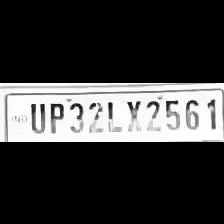1: (201, 94, 219, 130)
2: (86, 97, 106, 133), (143, 96, 161, 132)
3: (66, 98, 86, 132)
5: (161, 94, 181, 130)
6: (182, 94, 200, 130)
L: (103, 96, 121, 132)
P: (45, 99, 65, 134)
U: (25, 98, 45, 132)
X: (122, 96, 142, 132)
